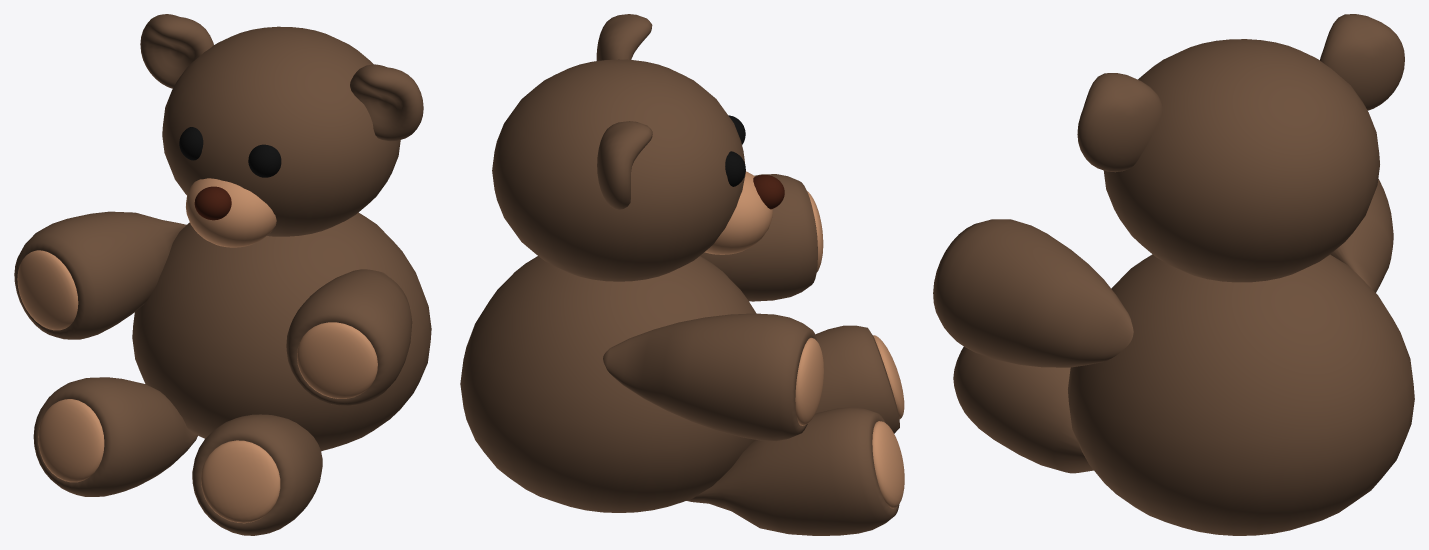
Rendered from Nalle.fbx.
The picture shows the model from 3 angles, left to right: view 1: azimuth 30°, elevation 25°; view 2: azimuth 150°, elevation 25°; view 3: azimuth 270°, elevation 25°; orthographic projection. The views are drawn at different scales.
Parts seen in each view (by area): view 1: Nalle; view 2: Nalle; view 3: Nalle.
Part boxes in pixels (x1,y1,x2,y2): Nalle: (14,14,431,535); Nalle: (460,14,904,535); Nalle: (933,14,1414,535).
Bounding box in the file's own units: 27.75 × 27.86 × 26.36.
